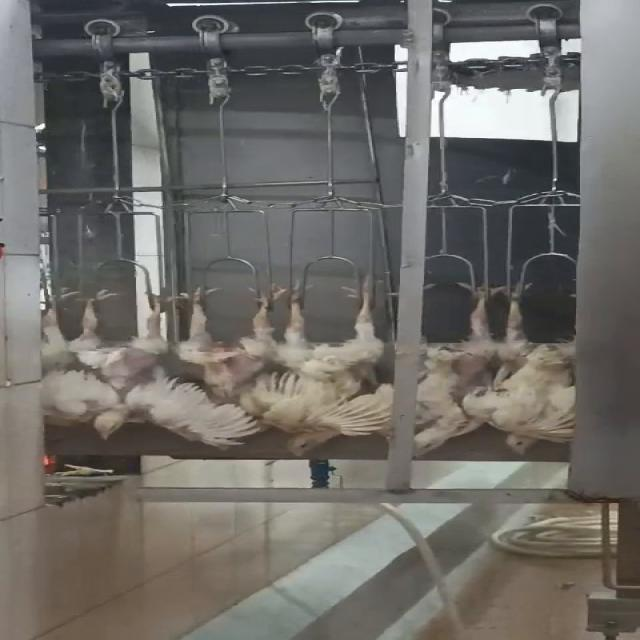chicken: (277, 272, 392, 459), (404, 277, 512, 458), (75, 282, 186, 444), (489, 282, 587, 456), (172, 282, 280, 414), (27, 286, 98, 434)
